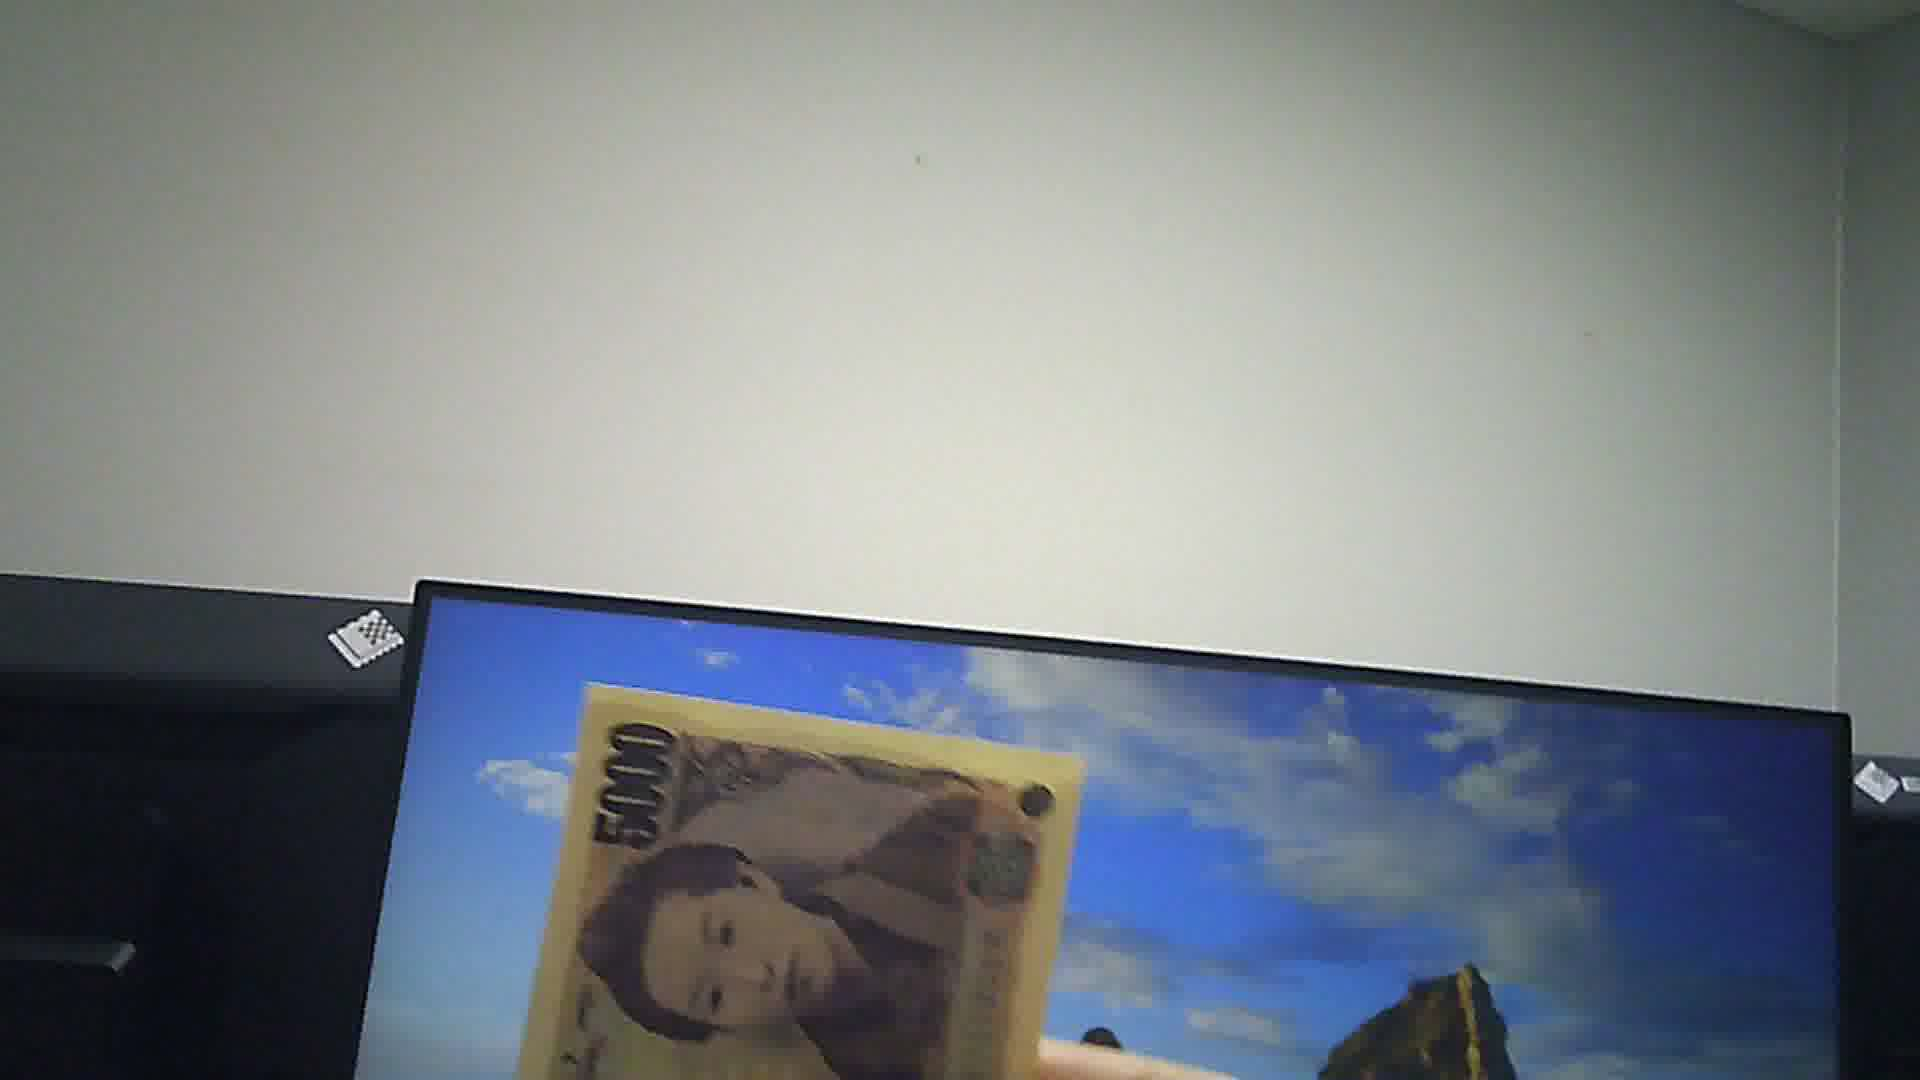5,000 Yen: (521, 684, 1091, 1079)
